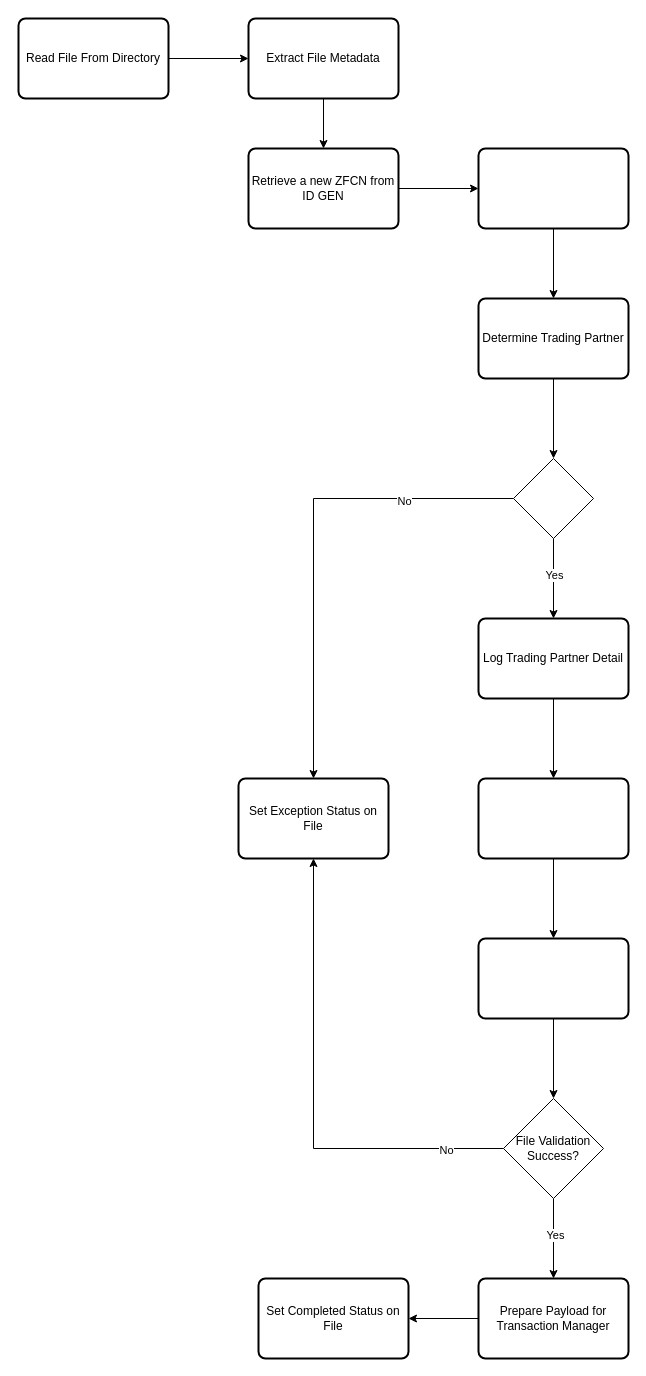
Some shapes in this 646 by 1376 pixel diagram are drawn without their labels. Each missing label, with the centre of its shape:
"Prepare Payload for file validator" goes at point (553, 818).
"Send Data File Validation Service" goes at point (553, 978).
"Store Metadata into table" goes at point (553, 188).
"TP Found?" goes at point (553, 498).
